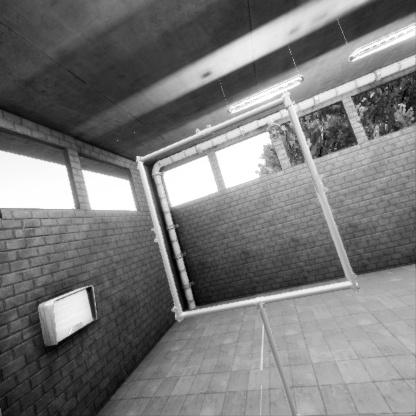gate: (135, 100, 374, 335)
